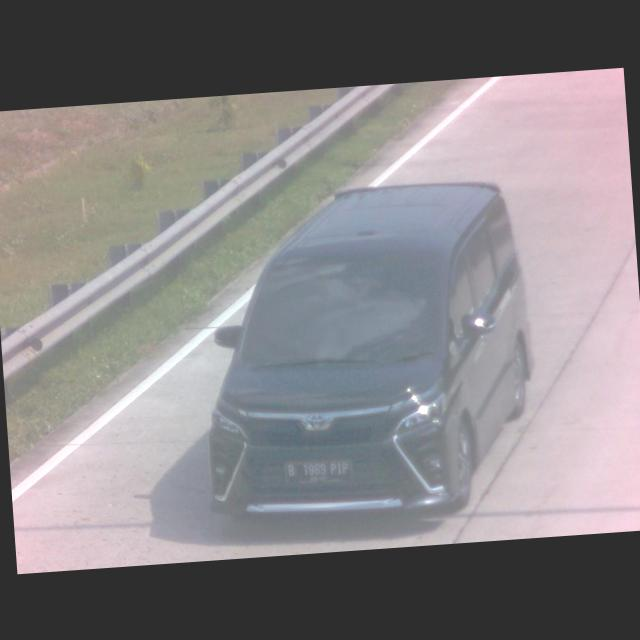plate: (282, 455, 354, 486)
